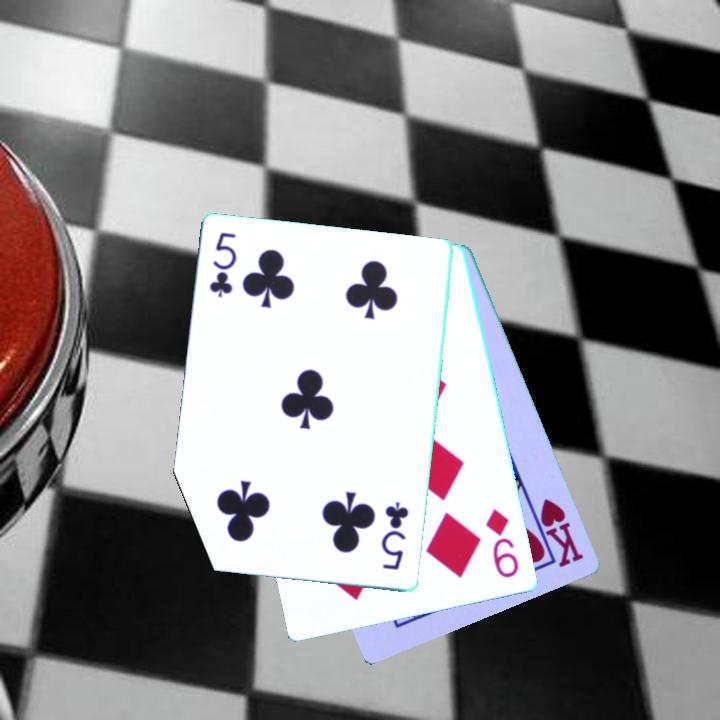5c: (378, 498, 412, 573), (206, 229, 240, 301)
9d: (482, 505, 522, 581)
Kh: (528, 495, 587, 571)
